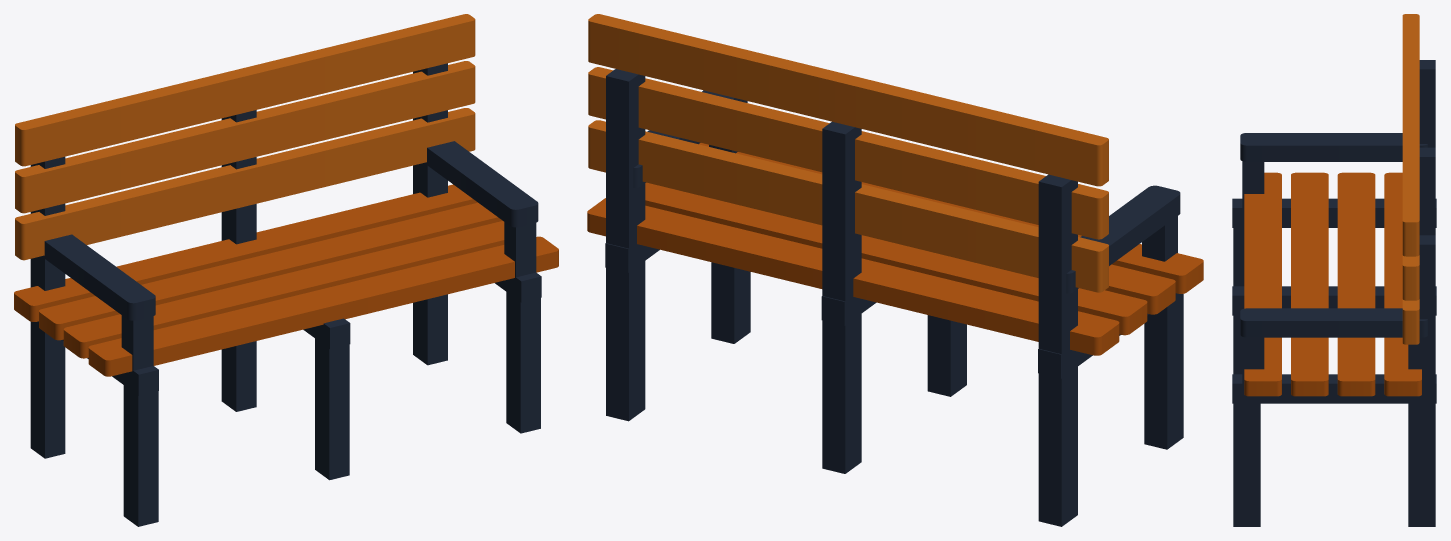
Rendered from bench.glb.
3 renders of one model, left to right at view 1: azimuth 30°, elevation 25°; view 2: azimuth 150°, elevation 25°; view 3: azimuth 270°, elevation 25°, orthographic. The views are drawn at different scales.
Visible parts, largest first — view 1: back_2, back_1, back_0, seat_0, seat_1, seat_2, seat_3, b_leg_0, f_leg_0, f_leg_1, f_leg_2, arm_R (+8 smaller); view 2: back_2, back_1, back_0, seat_3, b_leg_1, b_leg_2, b_leg_0, seat_2, f_leg_0, arm_L, f_leg_1, f_leg_2 (+6 smaller); view 3: seat_2, seat_1, b_leg_2, seat_0, arm_R, arm_L, seat_3, back_2, f_leg_2, s_bar_2, b_leg_1, b_leg_0 (+8 smaller).
Part boxes in pixels (<box>): back_2: <box>15,14,475,166</box>; back_1: <box>15,61,475,213</box>; back_0: <box>15,108,475,260</box>; seat_0: <box>88,236,558,376</box>; seat_1: <box>63,221,504,358</box>; seat_2: <box>39,202,502,340</box>; seat_3: <box>14,184,477,321</box>; b_leg_0: <box>30,156,65,458</box>; f_leg_0: <box>123,372,158,526</box>; f_leg_1: <box>315,325,349,480</box>; f_leg_2: <box>506,292,540,433</box>; arm_R: <box>424,141,538,227</box>; back_2: <box>588,14,1108,186</box>; back_1: <box>588,67,1108,239</box>; back_0: <box>588,120,1108,292</box>; seat_3: <box>587,198,1119,355</box>; b_leg_1: <box>822,121,861,473</box>; b_leg_2: <box>606,69,645,421</box>; b_leg_0: <box>1038,174,1077,526</box>; seat_2: <box>645,182,1147,335</box>; f_leg_0: <box>1144,293,1183,449</box>; arm_L: <box>1066,185,1180,293</box>; f_leg_1: <box>927,315,966,396</box>; f_leg_2: <box>711,262,750,343</box>; seat_2: <box>1337,172,1375,396</box>; seat_1: <box>1291,172,1328,396</box>; b_leg_2: <box>1408,235,1435,526</box>; seat_0: <box>1244,172,1281,396</box>; arm_R: <box>1240,308,1427,337</box>; arm_L: <box>1240,133,1427,161</box>; seat_3: <box>1384,172,1421,396</box>; back_2: <box>1402,14,1419,256</box>; f_leg_2: <box>1233,386,1260,526</box>; s_bar_2: <box>1232,374,1436,403</box>; b_leg_1: <box>1419,147,1435,235</box>; b_leg_0: <box>1419,60,1435,147</box>.
Size of the model in its own units: 0.76 by 0.538 by 0.315.
